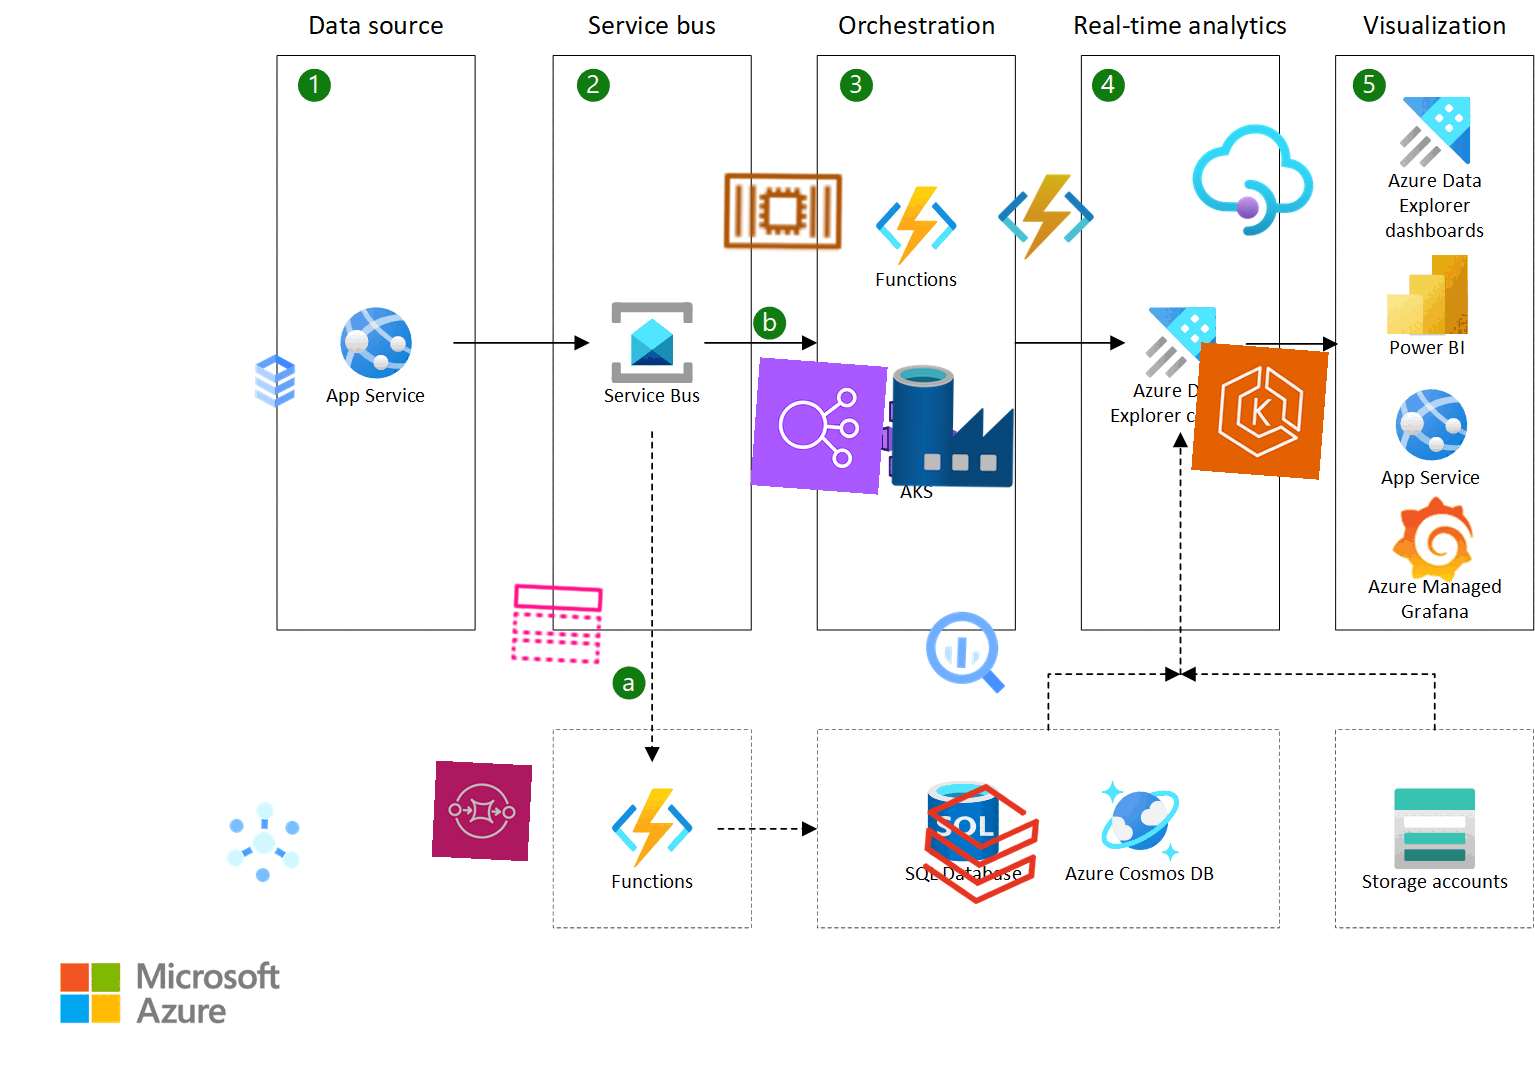aws_amazon_elastic_kubernetes_service: (1191, 342, 1329, 481)
aws_amazon_simple_queue_service: (431, 760, 533, 861)
aws_elastic_container_service_container_2: (718, 147, 848, 275)
aws_elastic_load_balancing: (750, 357, 888, 495)
aws_simple_notification_service_topic: (506, 573, 608, 675)
azure_api_management_services: (1187, 114, 1319, 246)
azure_data_factories: (888, 361, 1018, 491)
azure_databricks: (910, 774, 1051, 914)
azure_function_apps: (997, 168, 1094, 266)
gcp_bigquery: (916, 602, 1016, 702)
gcp_cloud_sql: (243, 348, 308, 414)
gcp_pubsub: (214, 792, 314, 892)
